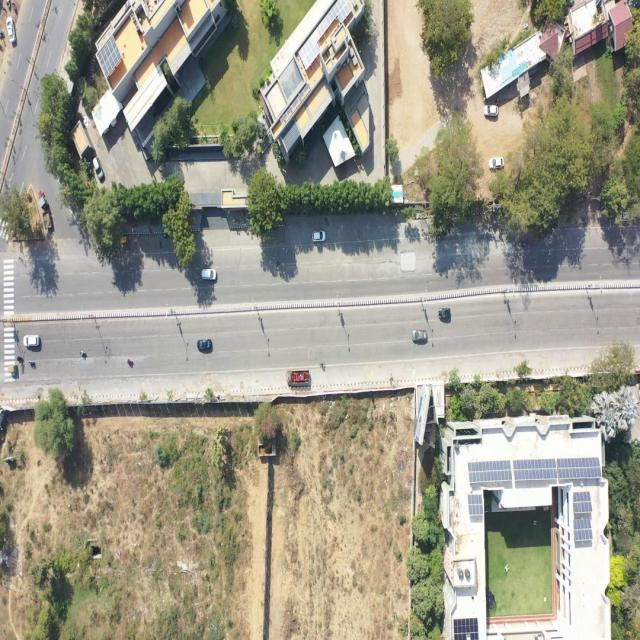3W: (6, 362, 20, 377), (117, 233, 131, 247)
Cars: (91, 152, 108, 184), (4, 14, 18, 46), (22, 332, 42, 351), (194, 335, 213, 353), (482, 102, 500, 120), (200, 266, 218, 284), (310, 228, 328, 244), (619, 209, 636, 224), (411, 328, 428, 342), (488, 157, 506, 170), (436, 307, 452, 321)
M2W: (12, 2, 18, 16), (79, 350, 88, 359), (126, 358, 135, 367), (520, 240, 529, 248), (29, 358, 36, 368), (162, 233, 172, 240), (16, 355, 24, 363), (7, 0, 11, 11)
Truck: (37, 188, 55, 232), (285, 366, 312, 387)
